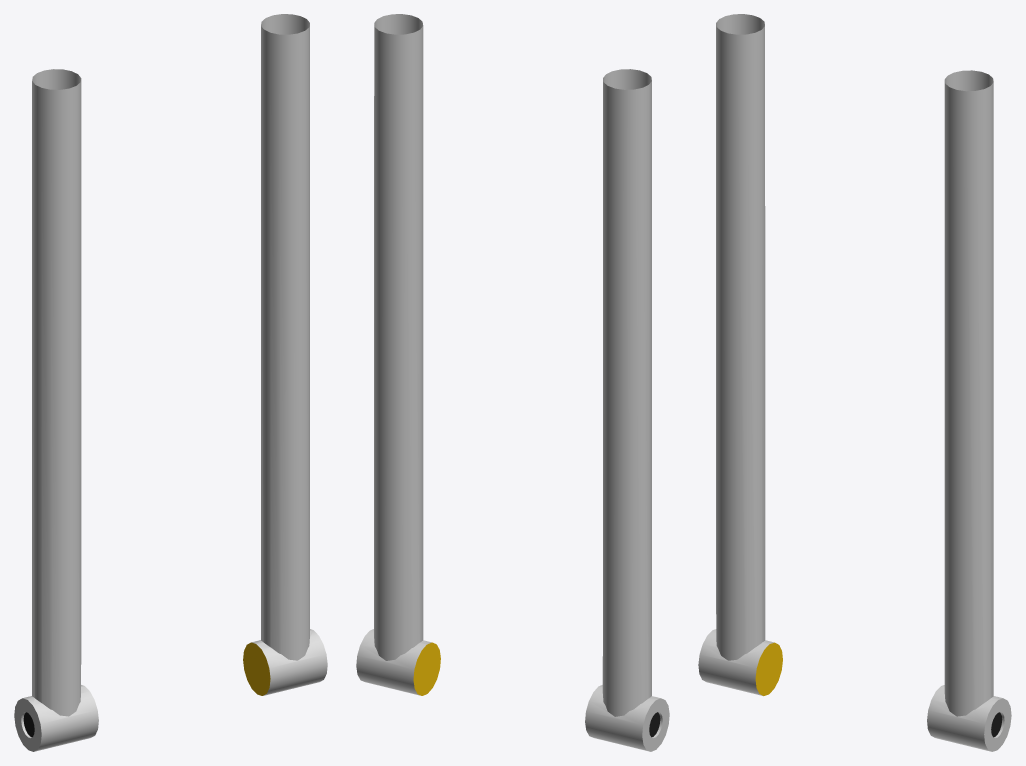
File: ExMainHydralicsPiston.obj
3 views of the same model, side by side, from view 1: azimuth 30°, elevation 25°; view 2: azimuth 150°, elevation 25°; view 3: azimuth 330°, elevation 25° (orthographic).
Visible parts, largest first — view 1: Mesh2 Group_9_1 G_13_1 Group3 Group2 Group1 Model, Mesh1 Group4 Group3 Group2 Group1 Model; view 2: Mesh1 Group4 Group3 Group2 Group1 Model, Mesh2 Group_9_1 G_13_1 Group3 Group2 Group1 Model; view 3: Mesh1 Group4 Group3 Group2 Group1 Model, Mesh2 Group_9_1 G_13_1 Group3 Group2 Group1 Model.
Boxes of the visible parts, x1,y1,x2,y2 form: Mesh2 Group_9_1 G_13_1 Group3 Group2 Group1 Model: (14,69,98,751); Mesh1 Group4 Group3 Group2 Group1 Model: (243,14,327,695); Mesh1 Group4 Group3 Group2 Group1 Model: (356,14,440,695); Mesh2 Group_9_1 G_13_1 Group3 Group2 Group1 Model: (585,69,669,751); Mesh1 Group4 Group3 Group2 Group1 Model: (927,70,1011,751); Mesh2 Group_9_1 G_13_1 Group3 Group2 Group1 Model: (698,14,782,696).
Bounding box in the file's own units: 0.6 × 1.33 × 0.1.
